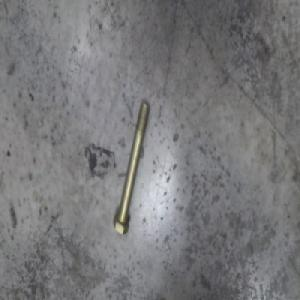Bolt: (113, 96, 151, 236)
